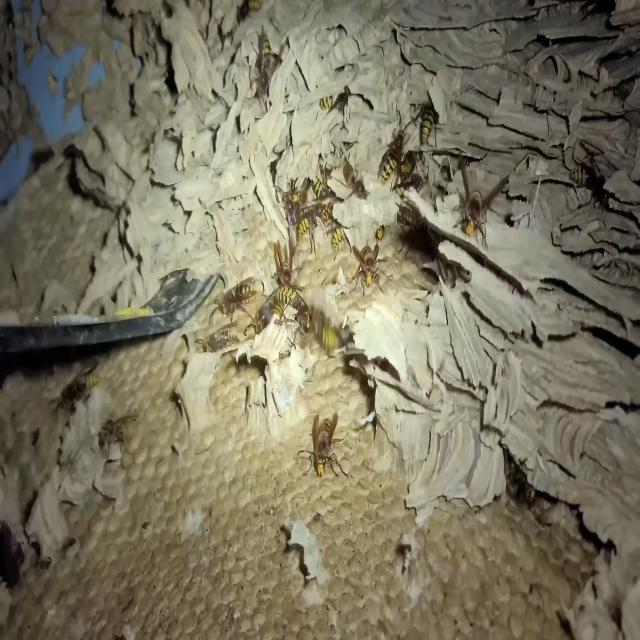Hornets: (453, 162, 509, 252), (295, 411, 348, 477), (380, 109, 413, 188), (249, 22, 281, 102), (352, 245, 392, 298), (215, 276, 256, 317), (295, 204, 330, 250), (337, 152, 369, 201), (265, 279, 302, 320), (412, 101, 441, 148)
